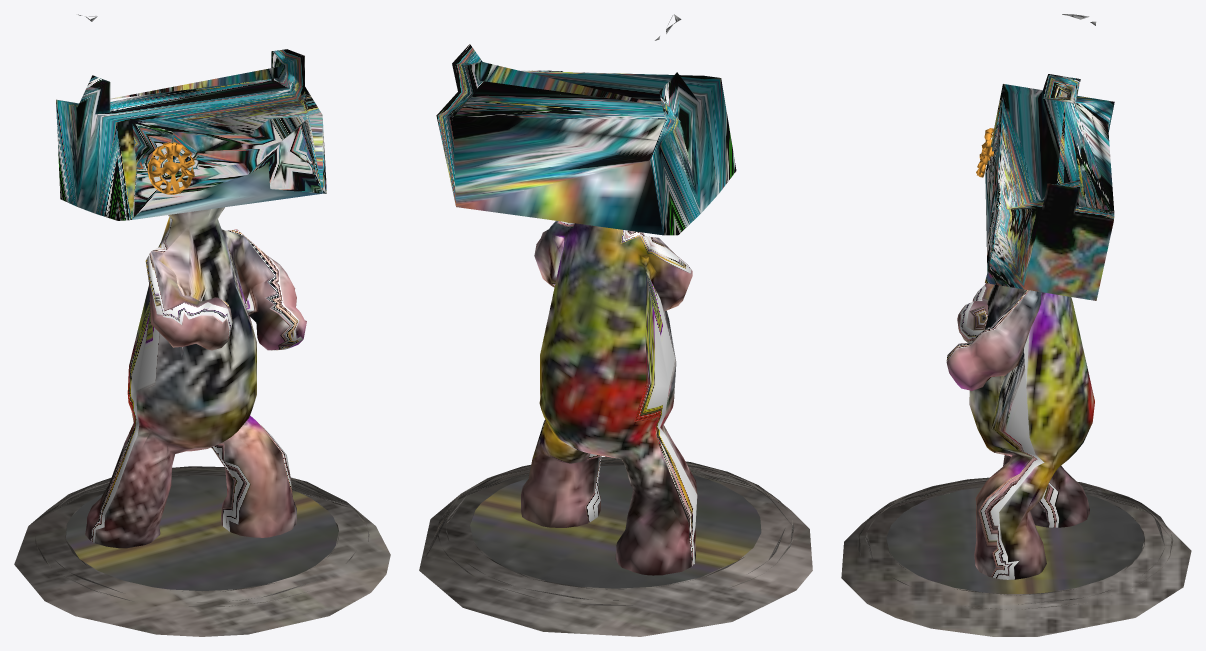
3 views of the same model, side by side, from view 1: azimuth 30°, elevation 25°; view 2: azimuth 150°, elevation 25°; view 3: azimuth 270°, elevation 25° (orthographic). The views are drawn at different scales.
Bounding box in the file's own units: 1.44 × 2.29 × 1.42.
6 materials, 5 textured.
